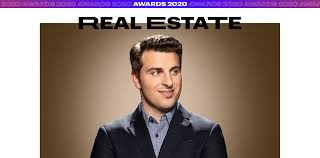No-Glasses: (140, 64, 182, 80)
